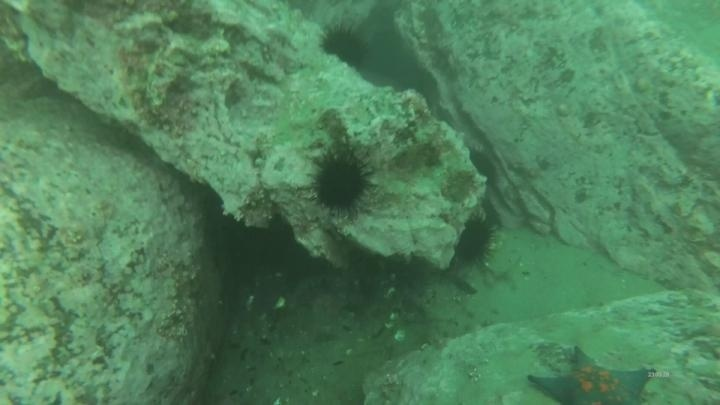echinus: (307, 148, 377, 217), (452, 215, 499, 268), (319, 23, 371, 70)
starfish: (526, 344, 656, 404)
